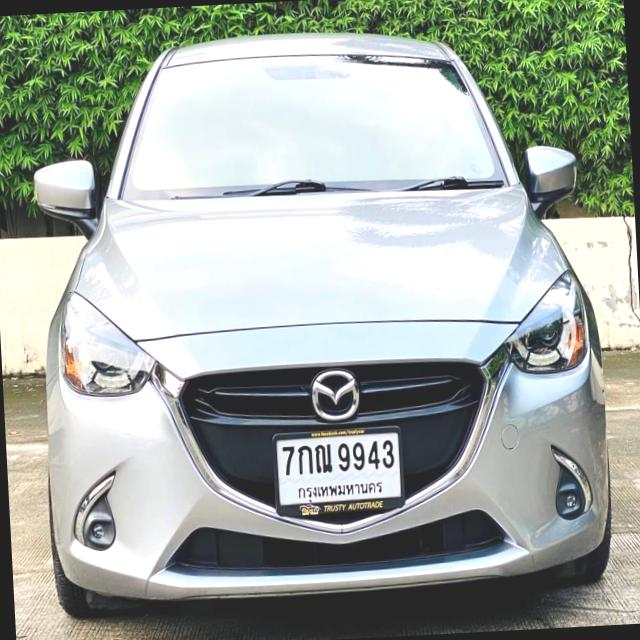license_plate: (268, 419, 409, 526)
